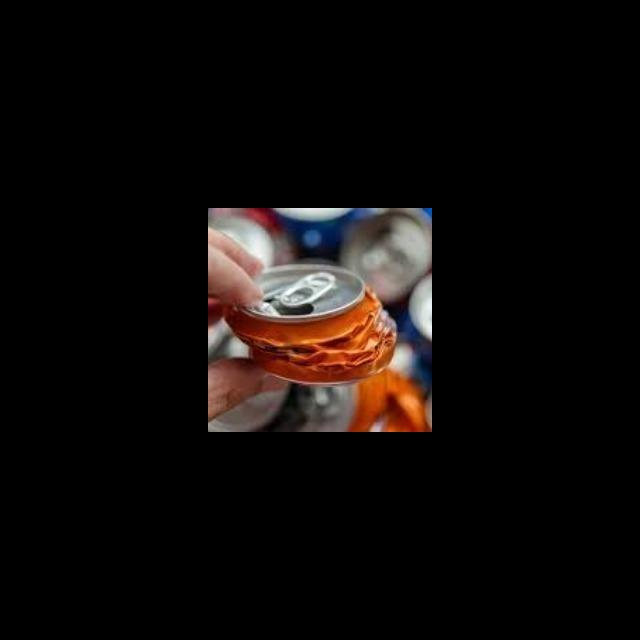metal: (224, 262, 401, 386)
